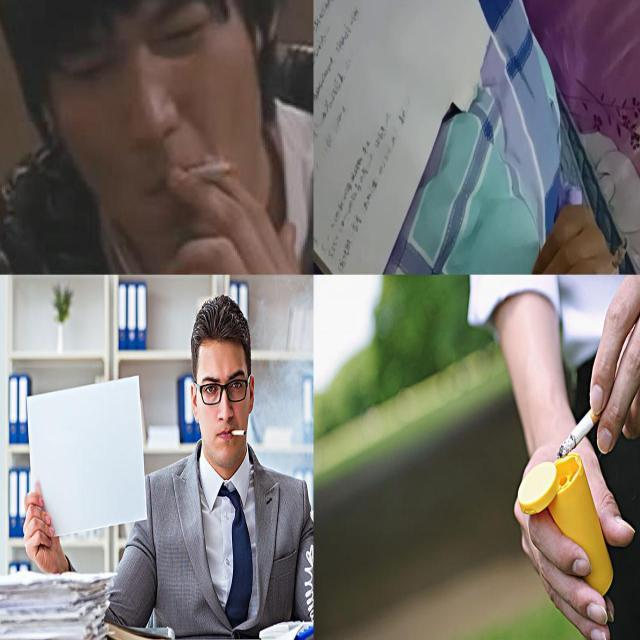smoking: (554, 398, 604, 462), (176, 150, 247, 192), (588, 237, 630, 274), (227, 418, 247, 444)
